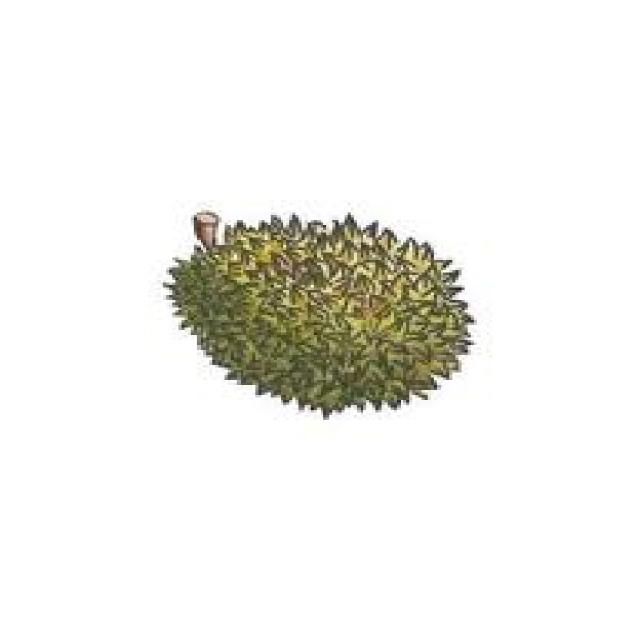fruit: (148, 188, 495, 452)
